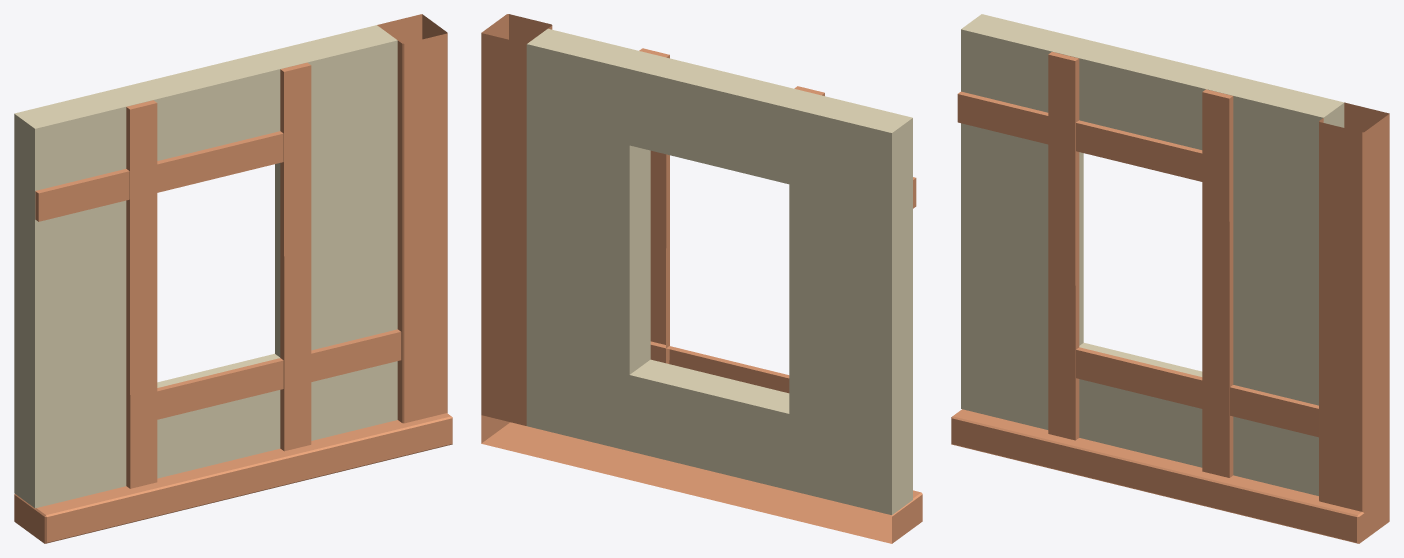
Rendered from Wall8_window_small_low.fbx.
3 renders of one model, left to right at view 1: azimuth 30°, elevation 25°; view 2: azimuth 150°, elevation 25°; view 3: azimuth 330°, elevation 25°, orthographic.
Visible parts, largest first — view 1: Wall8_window_small_low, Wall8_window_woodframe1_low, Wall8_window_woodplank1_low; view 2: Wall8_window_small_low, Wall8_window_woodplank1_low, Wall8_window_woodframe1_low; view 3: Wall8_window_small_low, Wall8_window_woodplank1_low, Wall8_window_woodframe1_low.
Boxes of the visible parts, x1,y1,x2,y2 form: Wall8_window_small_low: (14,25,397,508); Wall8_window_woodframe1_low: (35,62,401,488); Wall8_window_woodplank1_low: (14,14,452,543); Wall8_window_small_low: (526,28,912,515); Wall8_window_woodplank1_low: (481,14,922,543); Wall8_window_woodframe1_low: (639,48,916,393); Wall8_window_small_low: (961,14,1344,495); Wall8_window_woodplank1_low: (951,102,1389,543); Wall8_window_woodframe1_low: (957,52,1318,477).
Size of the model in its own units: 450 by 430 by 60.
